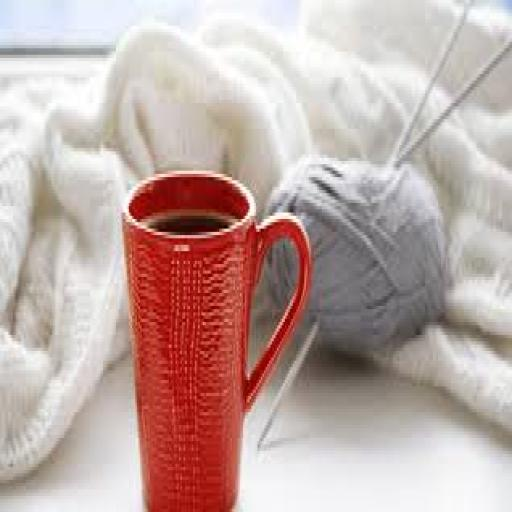red mug: (123, 171, 310, 511)
